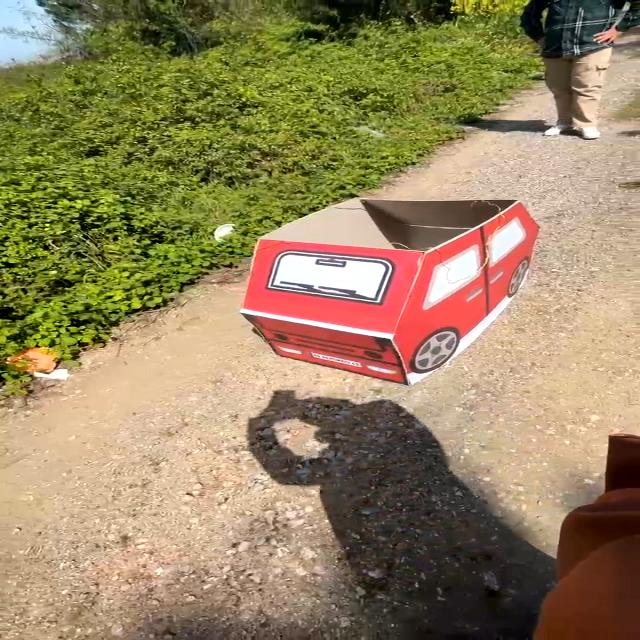red_car: (212, 179, 562, 399)
